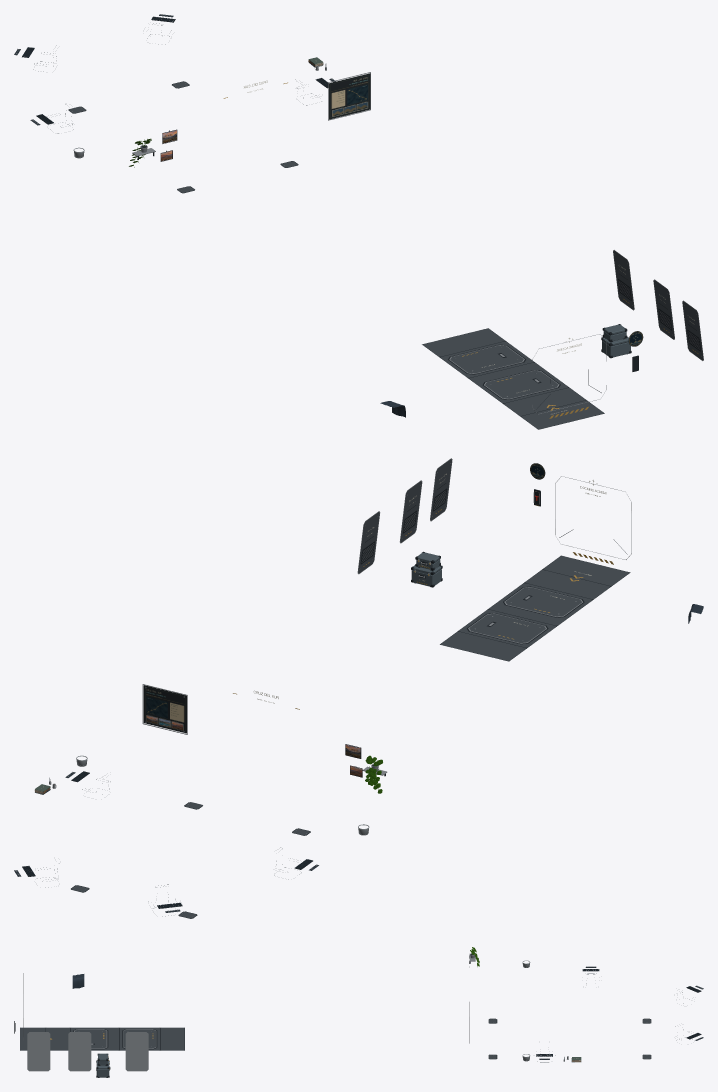
Rendered from cruz-del-sur-refined-details.glb.
3 renders of one model, top to bottom at view 1: azimuth 30°, elevation 25°; view 2: azimuth 150°, elevation 25°; view 3: azimuth 270°, elevation 25°, orthographic. The views are drawn at different scales.
Visible parts, largest first — view 1: REFINED_arrival_static_CDS DETAIL_Graphite deck - restrained, REFINED_arrival_static_CDS DETAIL_Pressure panel warm graphi, REFINED_arrival_static_CDS DETAIL_Recesses and gaskets, REFINED_bridge_static_CDS POLISH_Recess expedition board, REFINED_arrival_static_CDS DETAIL_Brushed steel rebates, REFINED_arrival_static_CDS POLISH_Scientific transport blue ; view 2: REFINED_arrival_static_CDS DETAIL_Graphite deck - restrained, REFINED_arrival_static_CDS DETAIL_Pressure panel warm graphi, REFINED_arrival_static_CDS DETAIL_Recesses and gaskets, REFINED_bridge_static_CDS POLISH_Recess expedition board, REFINED_arrival_static_CDS DETAIL_Brushed steel rebates, REFINED_arrival_static_CDS POLISH_Scientific transport blue ; view 3: REFINED_arrival_static_CDS DETAIL_Brushed steel rebates, REFINED_arrival_static_CDS DETAIL_Graphite deck - restrained, REFINED_arrival_static_CDS POLISH_Scientific transport blue , REFINED_arrival_static_CDS DETAIL_Recesses and gaskets.
Part boxes in pixels (bbox=[...]): REFINED_arrival_static_CDS DETAIL_Graphite deck - restrained: bbox=[423, 328, 603, 429]; REFINED_arrival_static_CDS DETAIL_Pressure panel warm graphi: bbox=[613, 250, 703, 360]; REFINED_arrival_static_CDS DETAIL_Recesses and gaskets: bbox=[422, 274, 700, 429]; REFINED_bridge_static_CDS POLISH_Recess expedition board: bbox=[329, 73, 370, 119]; REFINED_arrival_static_CDS DETAIL_Brushed steel rebates: bbox=[449, 250, 703, 414]; REFINED_arrival_static_CDS POLISH_Scientific transport blue : bbox=[602, 324, 630, 357]; REFINED_arrival_static_CDS DETAIL_Graphite deck - restrained: bbox=[441, 556, 629, 660]; REFINED_arrival_static_CDS DETAIL_Pressure panel warm graphi: bbox=[358, 459, 451, 573]; REFINED_arrival_static_CDS DETAIL_Recesses and gaskets: bbox=[360, 483, 630, 661]; REFINED_bridge_static_CDS POLISH_Recess expedition board: bbox=[143, 685, 186, 733]; REFINED_arrival_static_CDS DETAIL_Brushed steel rebates: bbox=[357, 458, 631, 643]; REFINED_arrival_static_CDS POLISH_Scientific transport blue : bbox=[411, 552, 441, 586]; REFINED_arrival_static_CDS DETAIL_Brushed steel rebates: bbox=[23, 973, 156, 1071]; REFINED_arrival_static_CDS DETAIL_Graphite deck - restrained: bbox=[20, 1027, 184, 1050]; REFINED_arrival_static_CDS POLISH_Scientific transport blue : bbox=[96, 1053, 109, 1077]; REFINED_arrival_static_CDS DETAIL_Recesses and gaskets: bbox=[20, 1027, 184, 1050].
Bounding box in the file's own units: 8.64 × 3.07 × 25.31.
31 materials, 6 textured.
